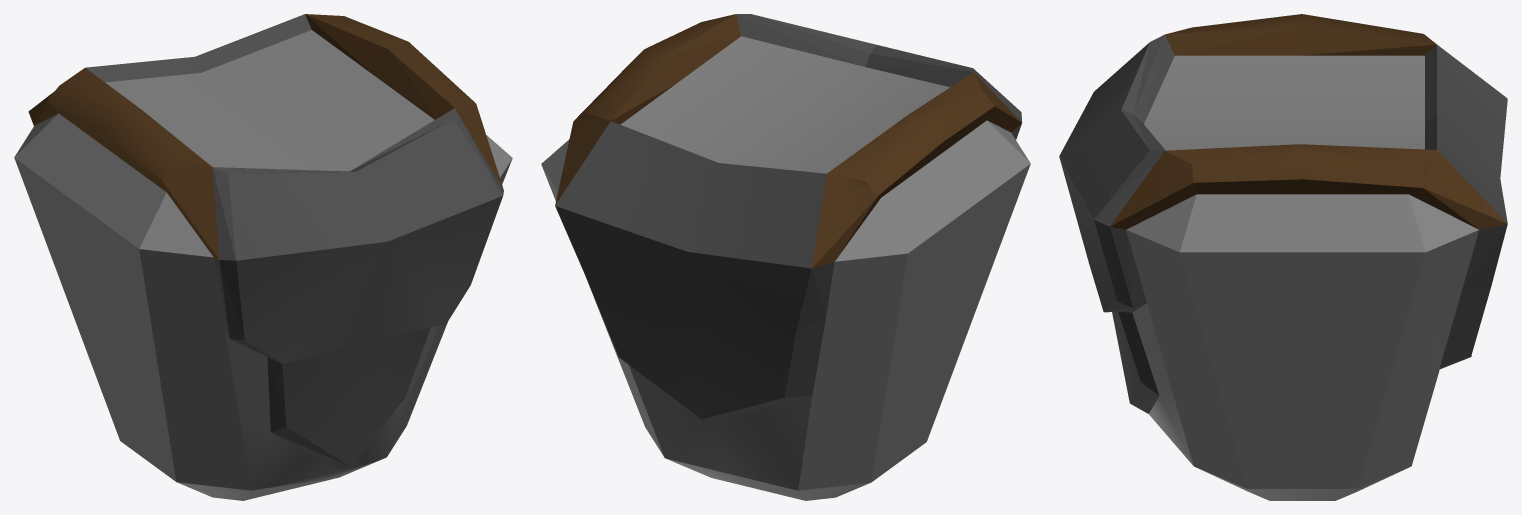
File: Plated Armour.fbx
3 views of the same model, side by side, from view 1: azimuth 30°, elevation 25°; view 2: azimuth 150°, elevation 25°; view 3: azimuth 270°, elevation 25° (orthographic).
Parts seen in each view (by area): view 1: Box012; view 2: Box012; view 3: Box012.
Boxes of the visible parts, <box> form: Box012: <box>14,14,512,500</box>; Box012: <box>541,14,1030,500</box>; Box012: <box>1059,14,1507,500</box>.
Size of the model in its own units: 19.48 by 19.53 by 20.62.
